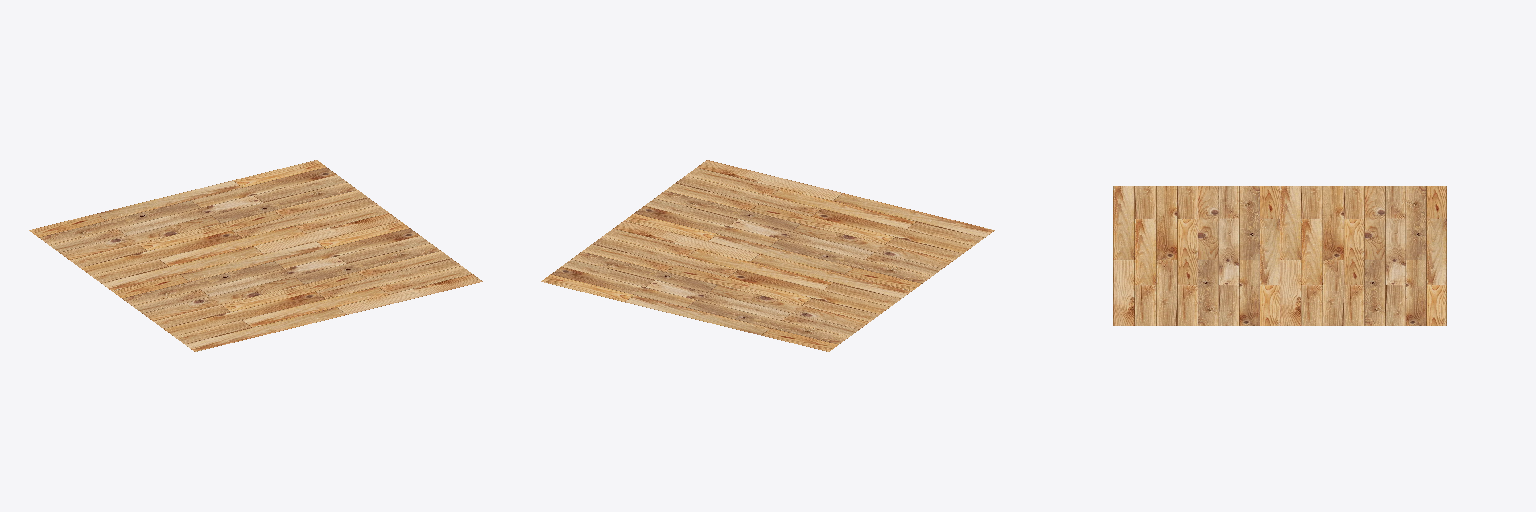
3 views of the same model, side by side, from view 1: azimuth 30°, elevation 25°; view 2: azimuth 150°, elevation 25°; view 3: azimuth 270°, elevation 25° (orthographic).
Visible parts, largest first — view 1: woodfloor; view 2: woodfloor; view 3: woodfloor.
Boxes of the visible parts, x1,y1,x2,y2 form: woodfloor: [29, 160, 482, 351]; woodfloor: [541, 160, 994, 351]; woodfloor: [1113, 186, 1446, 325].
Bounding box in the file's own units: 10 × 0 × 10.
Materials: 1 (1 with a texture image).